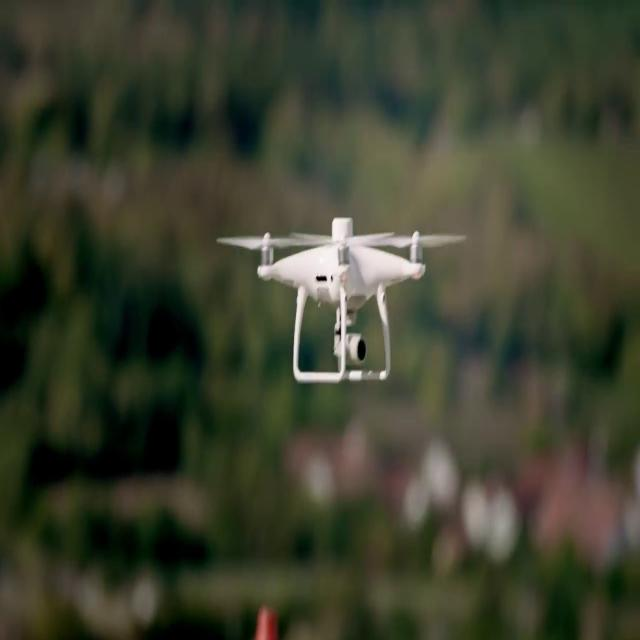drone: (214, 212, 468, 388)
